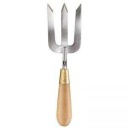fork: (41, 2, 88, 128)
